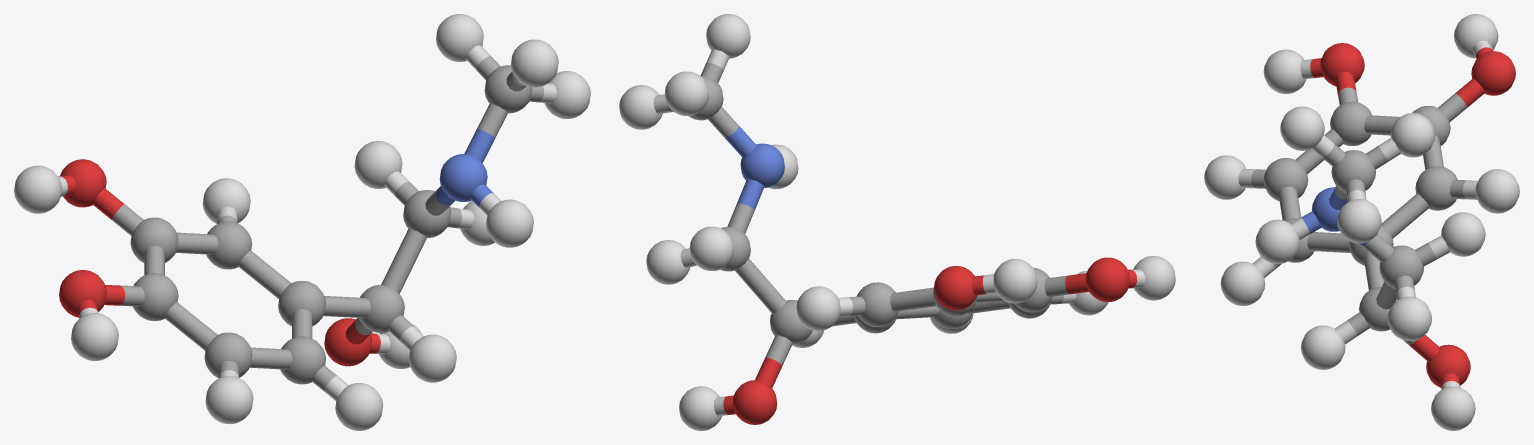
File: adrenaline-bas.glb
The picture shows the model from 3 angles, left to right: view 1: azimuth 30°, elevation 25°; view 2: azimuth 150°, elevation 25°; view 3: azimuth 270°, elevation 25°; orthographic projection. The views are drawn at different scales.
Parts seen in each view (by area): view 1: adrenaline-bas; view 2: adrenaline-bas; view 3: adrenaline-bas.
Part boxes in pixels (bbox=[...]): adrenaline-bas: bbox=[14, 14, 590, 430]; adrenaline-bas: bbox=[619, 14, 1175, 430]; adrenaline-bas: bbox=[1204, 14, 1519, 430].
Size of the model in its own units: 9.26 by 5.95 by 4.95.
